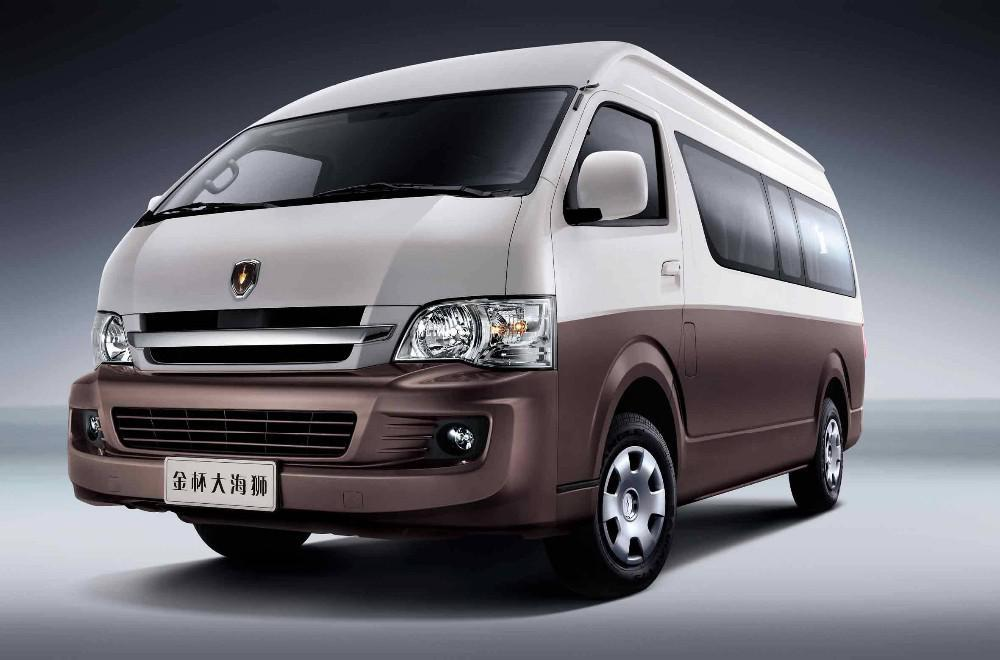Van: (61, 37, 875, 602)
